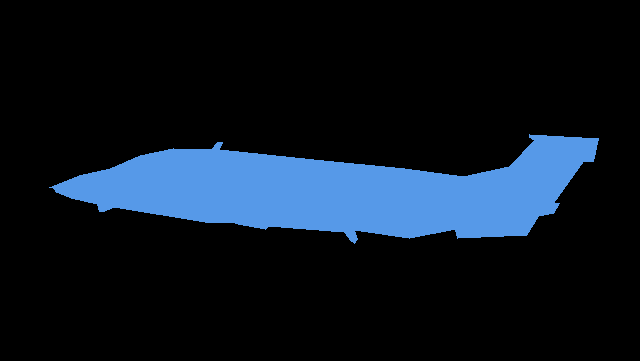Airplane: (49, 134, 598, 243)
